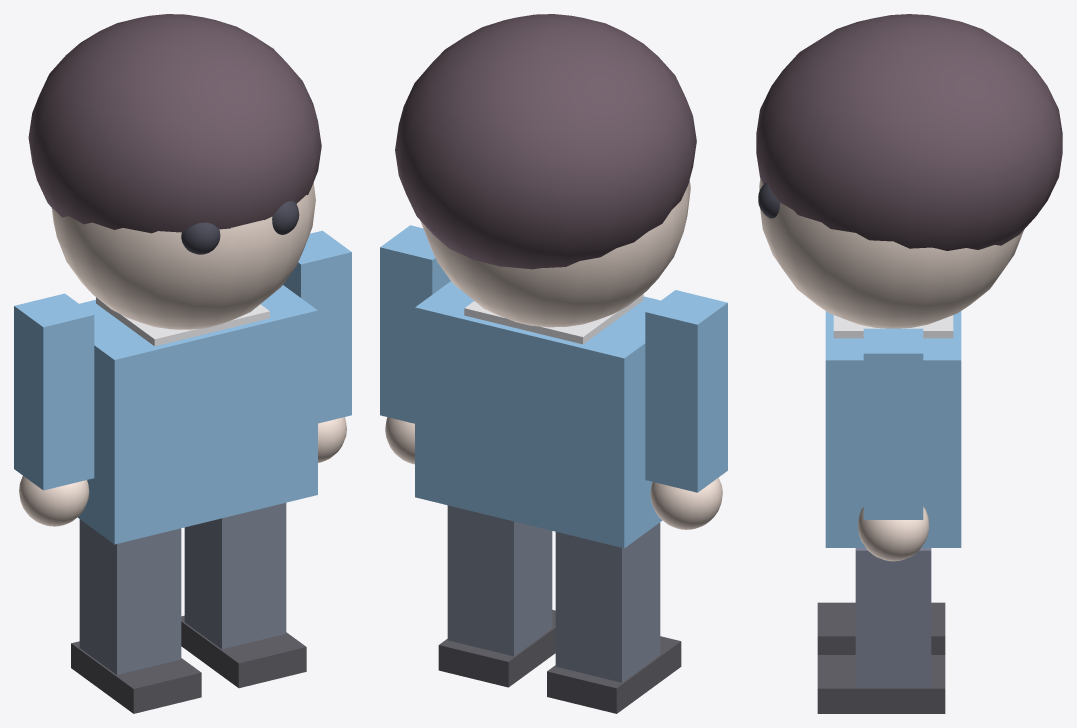
Rendered from demo_character.glb.
3 renders of one model, left to right at view 1: azimuth 30°, elevation 25°; view 2: azimuth 150°, elevation 25°; view 3: azimuth 270°, elevation 25°, orthographic. The views are drawn at different scales.
Parts seen in each view (by area): view 1: hair, torso, head, arm_l, leg_l, leg_r, arm_r, shoe_l, shoe_r, hand_l, collar, hand_r (+2 smaller); view 2: hair, torso, arm_l, leg_l, leg_r, head, arm_r, shoe_l, shoe_r, hand_l, collar, hand_r; view 3: hair, head, torso, arm_r, leg_r, shoe_r, shoe_l, hand_r, collar, eye_r.
Boxes of the visible parts, <box> form: hair: <box>28,14,321,233</box>; torso: <box>77,285,317,544</box>; head: <box>51,183,315,329</box>; arm_l: <box>14,293,94,490</box>; leg_l: <box>79,519,181,674</box>; leg_r: <box>184,503,286,649</box>; arm_r: <box>283,230,351,423</box>; shoe_l: <box>71,641,201,713</box>; shoe_r: <box>181,615,306,688</box>; hand_l: <box>19,476,89,526</box>; collar: <box>96,297,269,346</box>; hand_r: <box>318,417,346,462</box>; hair: <box>395,14,696,269</box>; torso: <box>415,281,662,548</box>; arm_l: <box>645,290,727,492</box>; leg_l: <box>555,522,660,682</box>; leg_r: <box>447,505,552,656</box>; head: <box>420,180,690,327</box>; arm_r: <box>380,225,450,423</box>; shoe_l: <box>547,636,681,713</box>; shoe_r: <box>438,610,555,687</box>; hand_l: <box>650,477,722,529</box>; collar: <box>464,294,643,344</box>; hand_r: <box>385,417,414,464</box>; hair: <box>756,14,1062,250</box>; head: <box>759,178,1023,328</box>; torso: <box>825,311,961,547</box>; arm_r: <box>863,328,923,519</box>; leg_r: <box>855,548,931,687</box>; shoe_r: <box>817,655,945,713</box>; shoe_l: <box>817,602,945,654</box>; hand_r: <box>858,506,928,561</box>; collar: <box>833,315,953,338</box>; eye_r: <box>758,182,779,218</box>.
Bounding box in the file's own units: 0.94 × 1.77 × 0.7691.
